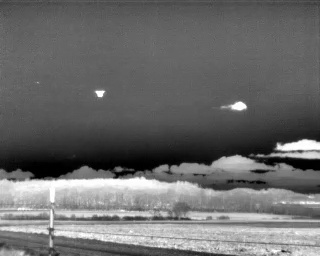DRONE: (92, 86, 109, 101)
